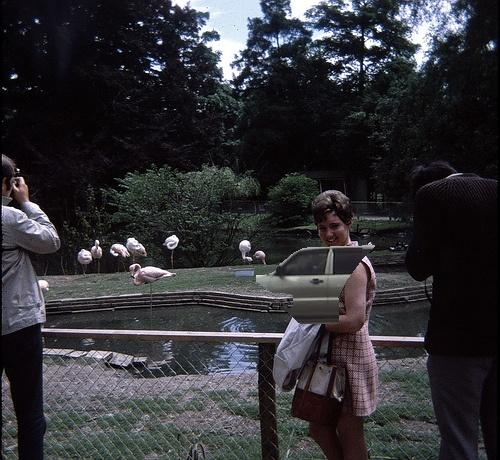tampered: (257, 246, 375, 324)
